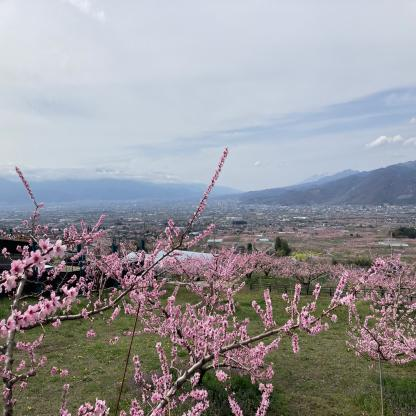Momo: (67, 143, 416, 416), (0, 168, 92, 416), (340, 254, 416, 286), (268, 254, 346, 282), (196, 250, 268, 276)
